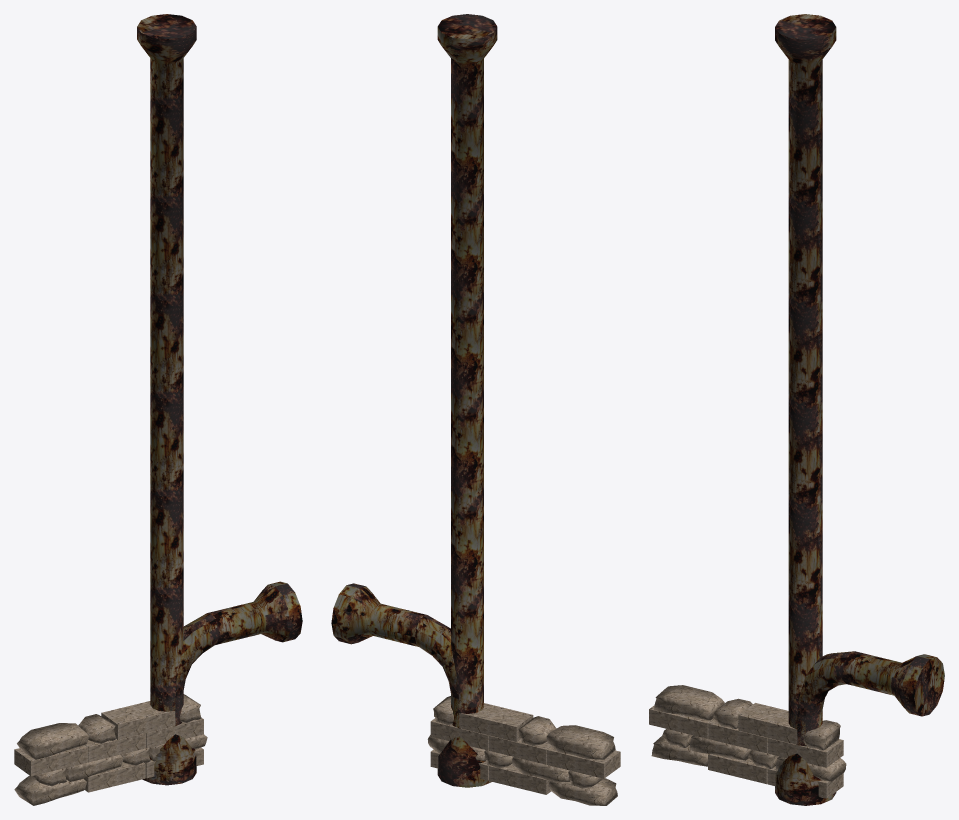
Rendered from TrubsKirp.FBX.
The picture shows the model from 3 angles, left to right: view 1: azimuth 30°, elevation 25°; view 2: azimuth 150°, elevation 25°; view 3: azimuth 330°, elevation 25°; orthographic projection. The views are drawn at different scales.
Visible parts, largest first — view 1: TrubaF, KirpWall, TrubaUgol; view 2: TrubaF, KirpWall, TrubaUgol; view 3: TrubaF, KirpWall, TrubaUgol.
Boxes of the visible parts, bbox=[...] form: TrubaF: bbox=[137, 14, 196, 785]; KirpWall: bbox=[14, 694, 207, 805]; TrubaUgol: bbox=[150, 581, 302, 724]; TrubaF: bbox=[437, 14, 497, 787]; KirpWall: bbox=[427, 696, 620, 805]; TrubaUgol: bbox=[331, 583, 483, 726]; TrubaF: bbox=[775, 14, 836, 805]; KirpWall: bbox=[649, 685, 846, 798]; TrubaUgol: bbox=[788, 651, 944, 745].
Bounding box in the file's own units: 18.52 × 49.8 × 3.61.
